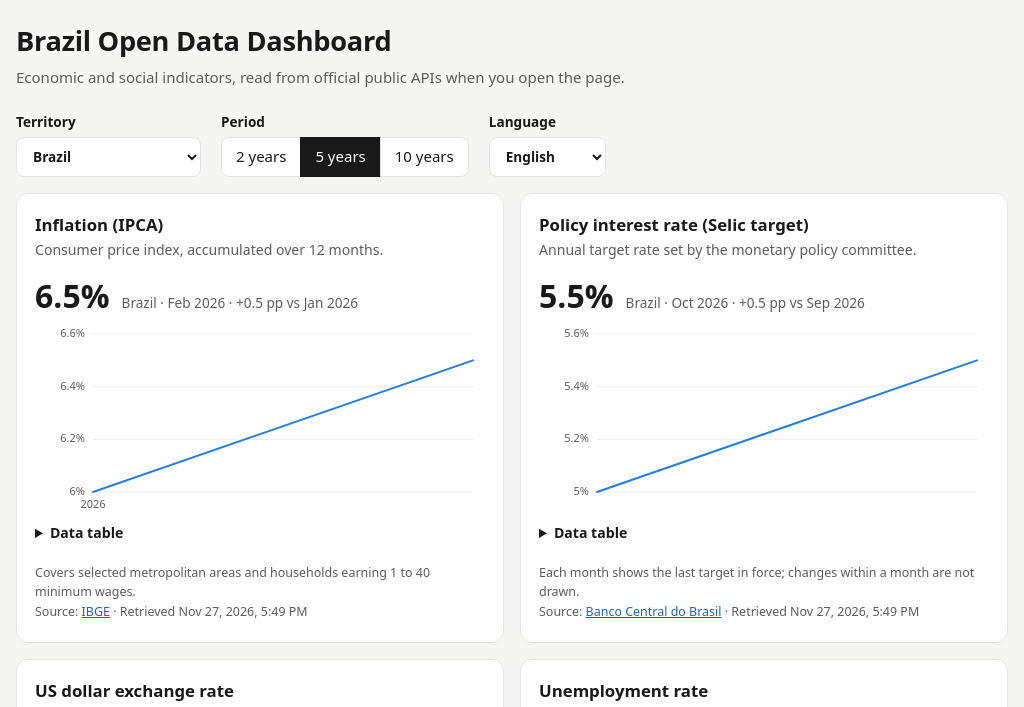
Scenario: App › switches to Portuguese
The width and height of the screenshot is (1024, 707).
Select "Português" in the dropdown labelled "Language" at (547, 157), box [489,137,606,177]
(page scrolled)
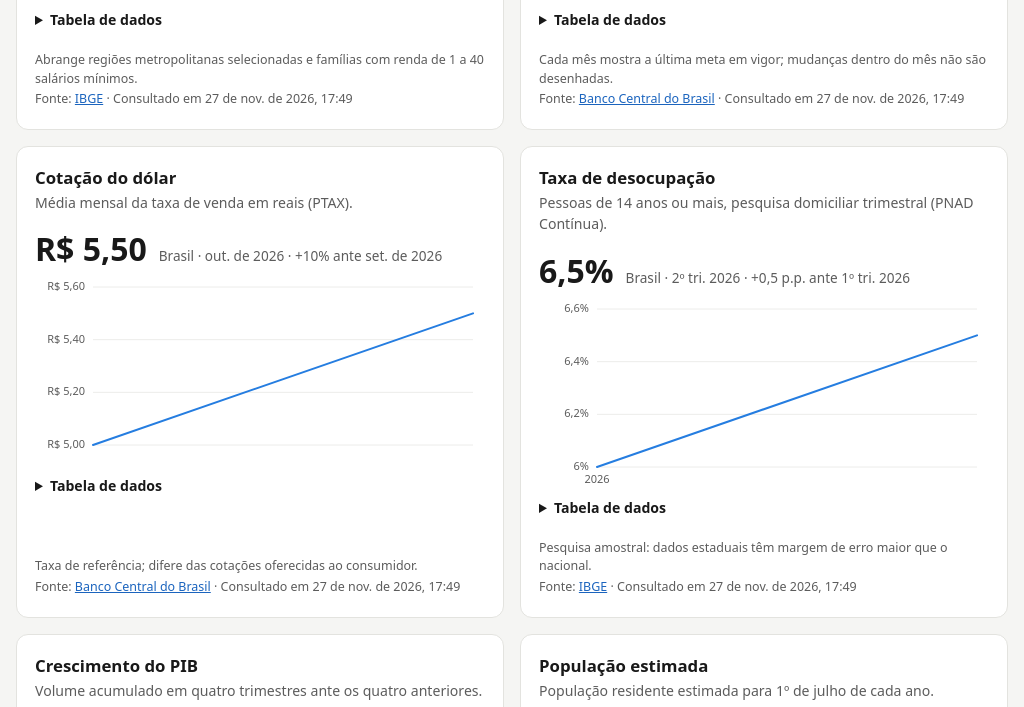
Expected: the element "Cotação do dólar" shows "R$ 5,50", [35,227,147,270]
